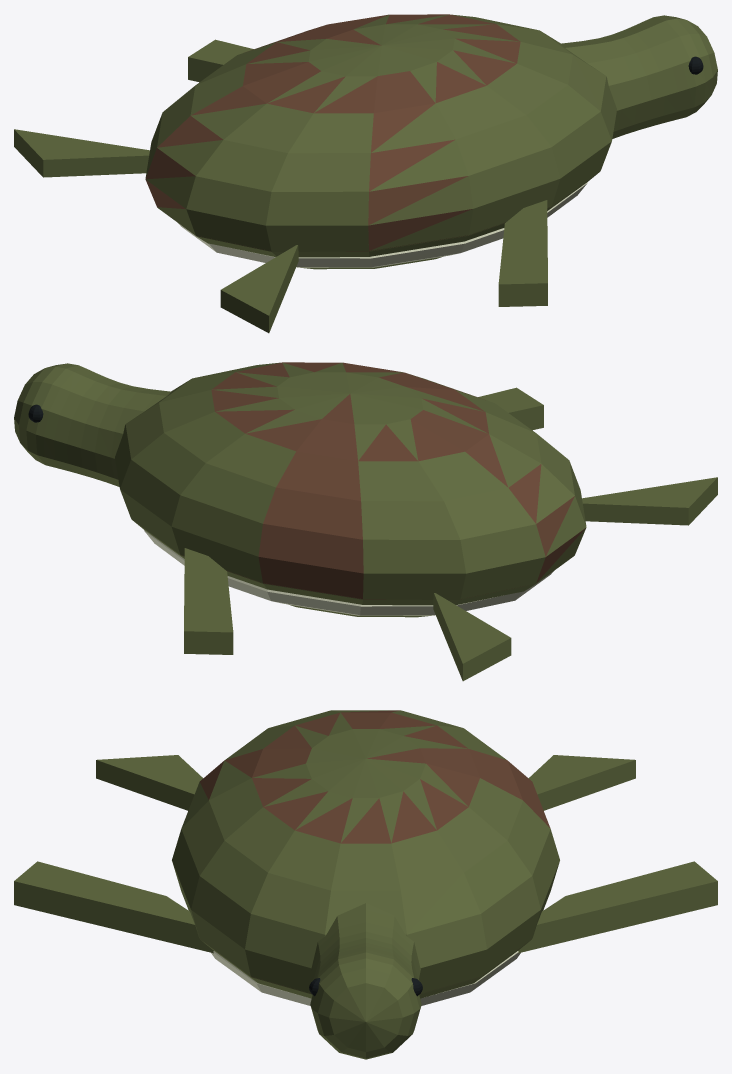
Rendered from sea-turtle-resting.dae.
The picture shows the model from 3 angles, top to bottom: view 1: azimuth 30°, elevation 25°; view 2: azimuth 150°, elevation 25°; view 3: azimuth 270°, elevation 25°; orthographic projection. The views are drawn at different scales.
Parts seen in each view (by area): view 1: part3-node, part0-node, part2-node; view 2: part3-node, part0-node, part2-node; view 3: part3-node, part0-node, part2-node.
Part boxes in pixels (x1,y1,x2,y2): part3-node: (14,14,717,333); part0-node: (145,14,549,251); part2-node: (178,182,587,267); part3-node: (14,362,717,681); part0-node: (182,362,585,599); part2-node: (144,530,553,615); part3-node: (14,710,717,1059); part0-node: (199,710,550,976); part2-node: (211,951,520,1005).
Bounding box in the file's own units: 1.05 × 1.05 × 0.3337.
